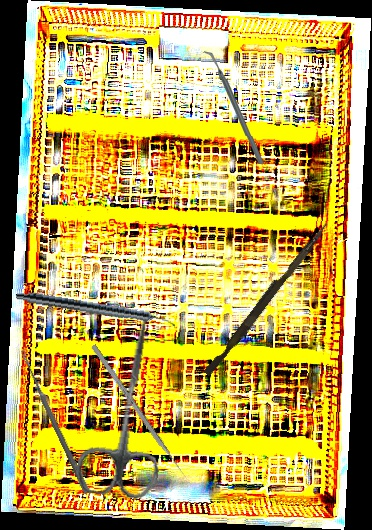Chopper: (202, 50, 265, 165)
Handpiece: (14, 289, 178, 330)
Iris Scissors: (73, 308, 183, 503)
Pusher: (203, 217, 330, 380), (90, 344, 190, 482)
Surgical Spoon: (18, 348, 91, 495)
